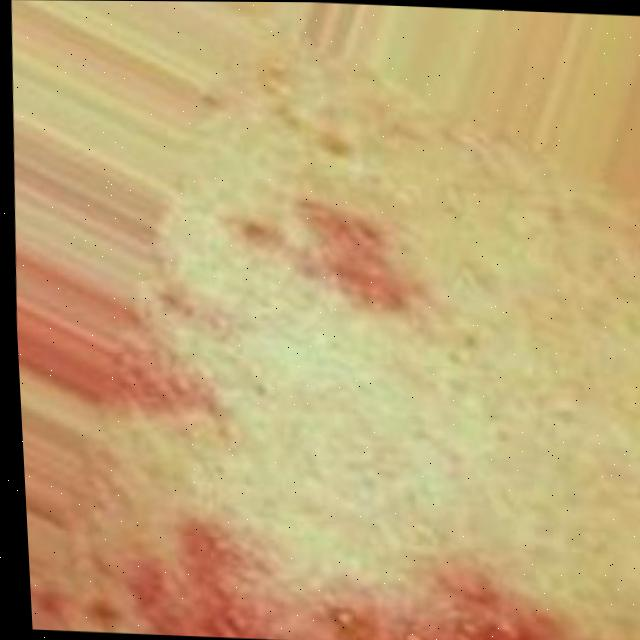Shingles: (118, 514, 630, 640), (296, 201, 404, 312), (120, 340, 208, 413)
